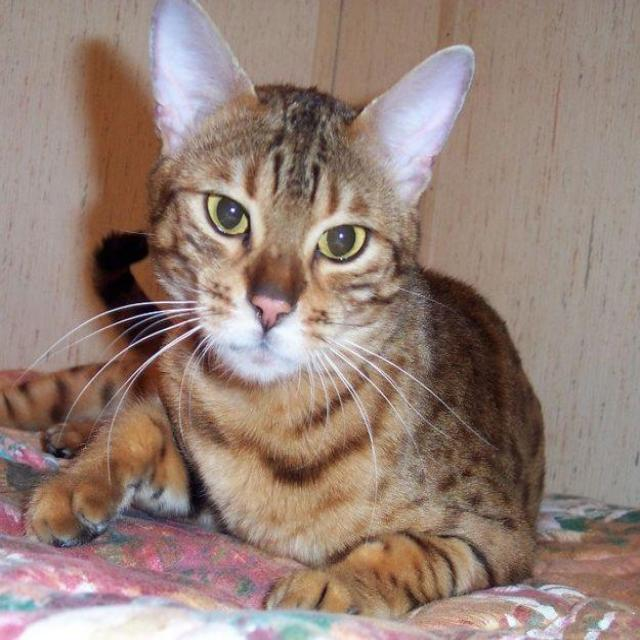Bengal: (147, 0, 474, 381)
